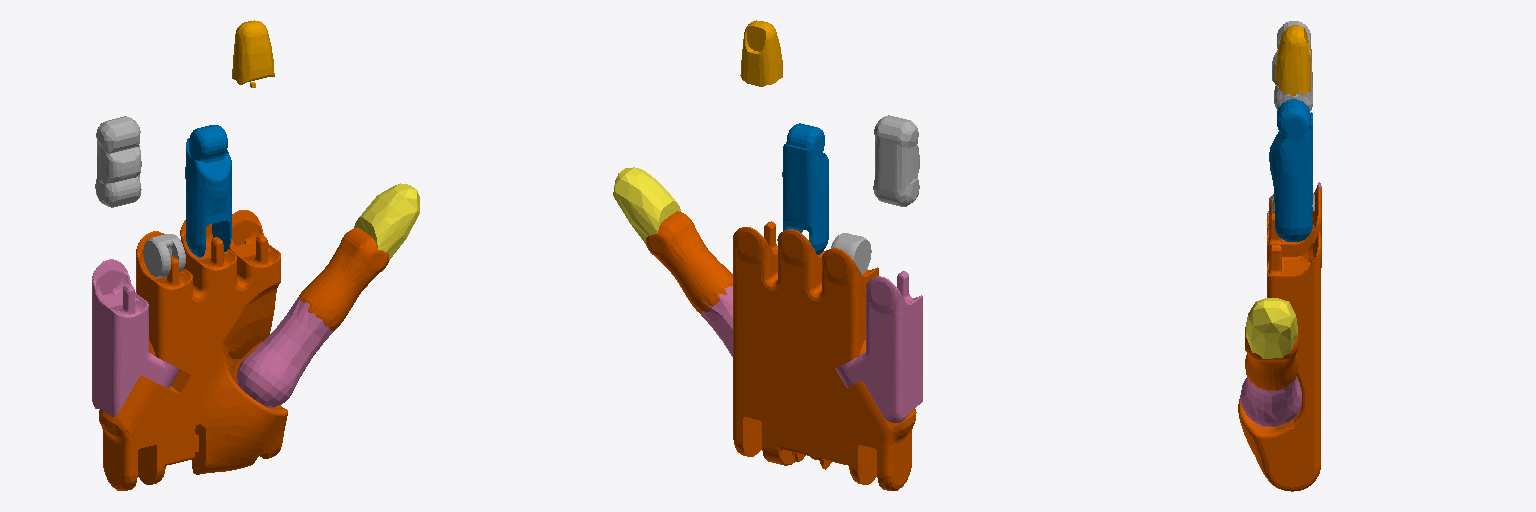
The robot description file, URDF, robot "shadowhand":
<robot name="shadowhand">
  <joint name="FFJ1" type="revolute">
    <origin xyz="0. -0. 0.025" rpy="0. 0. 0." />
    <parent link="ffmiddle" />
    <child link="ffdistal" />
    <axis xyz="1. 0. 0." />
    <limit lower="0." upper="1.5709999" effort="100" velocity="1.0" />
  </joint>
  <joint name="FFJ2" type="revolute">
    <origin xyz="0. -0. 0.045" rpy="0. 0. 0." />
    <parent link="ffproximal" />
    <child link="ffmiddle" />
    <axis xyz="1. 0. 0." />
    <limit lower="0." upper="1.5709999" effort="100" velocity="1.0" />
  </joint>
  <joint name="FFJ3" type="revolute">
    <origin xyz="0. -0. 0." rpy="0. 0. -1.5707961" />
    <parent link="ffknuckle" />
    <child link="ffproximal" />
    <axis xyz="1. 0. 0." />
    <limit lower="0." upper="1.5709999" effort="100" velocity="1.0" />
  </joint>
  <joint name="FFJ4" type="revolute">
    <origin xyz="0.033 -0. 0.095" rpy="-0. 0. 1.5707961" />
    <parent link="palm" />
    <child link="ffknuckle" />
    <axis xyz="1. 0. 0." />
    <limit lower="-0.349" upper="0.349" effort="100" velocity="1.0" />
  </joint>
  <joint name="LFJ1" type="revolute">
    <origin xyz="0. -0. 0.025" rpy="0. 0. 0." />
    <parent link="lfmiddle" />
    <child link="lfdistal" />
    <axis xyz="1. 0. 0." />
    <limit lower="0." upper="1.5709999" effort="100" velocity="1.0" />
  </joint>
  <joint name="LFJ2" type="revolute">
    <origin xyz="0. -0. 0.045" rpy="0. 0. 0." />
    <parent link="lfproximal" />
    <child link="lfmiddle" />
    <axis xyz="1. 0. 0." />
    <limit lower="0." upper="1.5709999" effort="100" velocity="1.0" />
  </joint>
  <joint name="LFJ3" type="revolute">
    <origin xyz="0. 0. 0." rpy="0. 0. -1.5707961" />
    <parent link="lfknuckle" />
    <child link="lfproximal" />
    <axis xyz="1. 0. 0." />
    <limit lower="0." upper="1.5709999" effort="100" velocity="1.0" />
  </joint>
  <joint name="LFJ4" type="revolute">
    <origin xyz="0.0264159 -0. 0.0390794" rpy="0.9631015 0.0000001 1.5707963" />
    <parent link="lfmetacarpal" />
    <child link="lfknuckle" />
    <axis xyz="1. 0. 0." />
    <limit lower="-0.349" upper="0.349" effort="100" velocity="1.0" />
  </joint>
  <joint name="LFJ5" type="revolute">
    <origin xyz="-0.017 -0. 0.044" rpy="0. -0.9631015 -0.0000001" />
    <parent link="palm" />
    <child link="lfmetacarpal" />
    <axis xyz="1. 0. 0." />
    <limit lower="0." upper="0.785" effort="100" velocity="1.0" />
  </joint>
  <joint name="MFJ1" type="revolute">
    <origin xyz="0. -0. 0.025" rpy="0. 0. 0." />
    <parent link="mfmiddle" />
    <child link="mfdistal" />
    <axis xyz="1. 0. 0." />
    <limit lower="0." upper="1.5709999" effort="100" velocity="1.0" />
  </joint>
  <joint name="MFJ2" type="revolute">
    <origin xyz="0. -0. 0.045" rpy="0. 0. 0." />
    <parent link="mfproximal" />
    <child link="mfmiddle" />
    <axis xyz="1. 0. 0." />
    <limit lower="0." upper="1.5709999" effort="100" velocity="1.0" />
  </joint>
  <joint name="MFJ3" type="revolute">
    <origin xyz="0. 0. 0." rpy="0. 0. -1.5707961" />
    <parent link="mfknuckle" />
    <child link="mfproximal" />
    <axis xyz="1. 0. 0." />
    <limit lower="0." upper="1.5709999" effort="100" velocity="1.0" />
  </joint>
  <joint name="MFJ4" type="revolute">
    <origin xyz="0.011 0. 0.099" rpy="-0. 0. 1.5707961" />
    <parent link="palm" />
    <child link="mfknuckle" />
    <axis xyz="1. 0. 0." />
    <limit lower="-0.349" upper="0.349" effort="100" velocity="1.0" />
  </joint>
  <joint name="RFJ1" type="revolute">
    <origin xyz="0. -0. 0.025" rpy="0. 0. 0." />
    <parent link="rfmiddle" />
    <child link="rfdistal" />
    <axis xyz="1. 0. 0." />
    <limit lower="0." upper="1.5709999" effort="100" velocity="1.0" />
  </joint>
  <joint name="RFJ2" type="revolute">
    <origin xyz="0. -0. 0.045" rpy="0. 0. 0." />
    <parent link="rfproximal" />
    <child link="rfmiddle" />
    <axis xyz="1. 0. 0." />
    <limit lower="0." upper="1.5709999" effort="100" velocity="1.0" />
  </joint>
  <joint name="RFJ3" type="revolute">
    <origin xyz="0. 0. 0." rpy="0. 0. -1.5707961" />
    <parent link="rfknuckle" />
    <child link="rfproximal" />
    <axis xyz="1. 0. 0." />
    <limit lower="0." upper="1.5709999" effort="100" velocity="1.0" />
  </joint>
  <joint name="RFJ4" type="revolute">
    <origin xyz="-0.011 -0. 0.095" rpy="-0. 0. 1.5707961" />
    <parent link="palm" />
    <child link="rfknuckle" />
    <axis xyz="1. 0. 0." />
    <limit lower="-0.349" upper="0.349" effort="100" velocity="1.0" />
  </joint>
  <joint name="THJ1" type="revolute">
    <origin xyz="-0. -0. 0.032" rpy="0. 0. 0." />
    <parent link="thmiddle" />
    <child link="thdistal" />
    <axis xyz="1. 0. 0." />
    <limit lower="-1.5709999" upper="0." effort="100" velocity="1.0" />
  </joint>
  <joint name="THJ2" type="revolute">
    <origin xyz="0. 0. 0." rpy="-0. 0. 1.5707961" />
    <parent link="thhub" />
    <child link="thmiddle" />
    <axis xyz="1. 0. 0." />
    <limit lower="-0.524" upper="0.524" effort="100" velocity="1.0" />
  </joint>
  <joint name="THJ3" type="revolute">
    <origin xyz="0. -0. 0.038" rpy="0. 0. 0." />
    <parent link="thproximal" />
    <child link="thhub" />
    <axis xyz="1. 0. 0." />
    <limit lower="-0.209" upper="0.209" effort="100" velocity="1.0" />
  </joint>
  <joint name="THJ4" type="revolute">
    <origin xyz="-0. -0. 0." rpy="-0. -1.5707963 0. " />
    <parent link="thbase" />
    <child link="thproximal" />
    <axis xyz="1. 0. 0." />
    <limit lower="0." upper="1.222" effort="100" velocity="1.0" />
  </joint>
  <joint name="THJ5" type="revolute">
    <origin xyz="0.034 -0.009 0.029" rpy="3.1415925 0.7857963 3.1415925" />
    <parent link="palm" />
    <child link="thbase" />
    <axis xyz="1. 0. 0." />
    <limit lower="-1.047" upper="1.047" effort="100" velocity="1.0" />
  </joint>
  <link name="ffdistal">
    <inertial>
      <origin xyz="0. 0. 0.015" rpy="0. 0. 0." />
      <mass value="0.01" />
      <inertia ixx="0.00001" ixy="0." ixz="0." iyy="0.00001" iyz="0." izz="0.00001" />
    </inertial>
    <collision>
      <origin xyz="0. 0. 0.001" rpy="0. 0. 0." />
      <geometry>
        <mesh filename="meshes/V_ffdistal.obj" scale="1. 1. 1." />
      </geometry>
    </collision>
    <visual>
      <origin xyz="0. 0. 0.001" rpy="0. 0. 0." />
      <geometry>
        <mesh filename="meshes/V_ffdistal.obj" scale="1. 1. 1." />
      </geometry>
    </visual>
  </link>
  <link name="ffknuckle">
    <inertial>
      <origin xyz="0. 0. 0." rpy="0. 0. 0." />
      <mass value="0.008" />
      <inertia ixx="0.00001" ixy="0." ixz="0." iyy="0.00001" iyz="0." izz="0.00001" />
    </inertial>
    <visual>
      <origin xyz="0. 0. 0." rpy="0. 0. 0." />
      <geometry>
        <mesh filename="meshes/V_ffknuckle.obj" scale="1. 1. 1." />
      </geometry>
    </visual>
    <collision>
      <origin xyz="0. 0. 0." rpy="0. 0. 0." />
      <geometry>
        <mesh filename="meshes/V_ffknuckle.obj" scale="1. 1. 1." />
      </geometry>
    </collision>
  </link>
  <link name="ffmiddle">
    <inertial>
      <origin xyz="0. 0. 0.011" rpy="0. 0. 0." />
      <mass value="0.012" />
      <inertia ixx="0.00001" ixy="0." ixz="0." iyy="0.00001" iyz="0." izz="0.00001" />
    </inertial>
    <visual>
      <origin xyz="0. 0. 0." rpy="0. 0. 0." />
      <geometry>
        <mesh filename="meshes/V_ffmiddle.obj" scale="1. 1. 1." />
      </geometry>
    </visual>
    <collision>
      <origin xyz="0. 0. 0." rpy="0. 0. 0." />
      <geometry>
        <mesh filename="meshes/V_ffmiddle.obj" scale="1. 1. 1." />
      </geometry>
    </collision>
  </link>
  <link name="ffproximal">
    <inertial>
      <origin xyz="0. 0. 0.023" rpy="0. 0. 0." />
      <mass value="0.014" />
      <inertia ixx="0.00001" ixy="0." ixz="0." iyy="0.00001" iyz="0." izz="0.00001" />
    </inertial>
    <visual>
      <origin xyz="0. 0. 0." rpy="0. 0. 0." />
      <geometry>
        <mesh filename="meshes/V_ffproximal.obj" scale="1. 1. 1." />
      </geometry>
    </visual>
    <collision>
      <origin xyz="0. 0. 0." rpy="0. 0. 0." />
      <geometry>
        <mesh filename="meshes/V_ffproximal.obj" scale="1. 1. 1." />
      </geometry>
    </collision>
  </link>
  <link name="lfdistal">
    <inertial>
      <origin xyz="0. 0. 0.015" rpy="0. 0. 0." />
      <mass value="0.01" />
      <inertia ixx="0.00001" ixy="0." ixz="0." iyy="0.00001" iyz="0." izz="0.00001" />
    </inertial>
    <visual>
      <origin xyz="0. 0. 0.001" rpy="0. 0. 0." />
      <geometry>
        <mesh filename="meshes/V_lfdistal.obj" scale="1. 1. 1." />
      </geometry>
    </visual>
    <collision>
      <origin xyz="0. 0. 0.001" rpy="0. 0. 0." />
      <geometry>
        <mesh filename="meshes/V_lfdistal.obj" scale="1. 1. 1." />
      </geometry>
    </collision>
  </link>
  <link name="lfknuckle">
    <inertial>
      <origin xyz="0. 0. 0." rpy="0. 0. 0." />
      <mass value="0.008" />
      <inertia ixx="0.00001" ixy="0." ixz="0." iyy="0.00001" iyz="0." izz="0.00001" />
    </inertial>
    <visual>
      <origin xyz="0. 0. 0." rpy="0. 0. -1.5707961" />
      <geometry>
        <mesh filename="meshes/V_lfknuckle.obj" scale="1. 1. 1." />
      </geometry>
    </visual>
    <collision>
      <origin xyz="0. 0. 0." rpy="0. 0. -1.5707961" />
      <geometry>
        <mesh filename="meshes/V_lfknuckle.obj" scale="1. 1. 1." />
      </geometry>
    </collision>
  </link>
  <link name="lfmetacarpal">
    <inertial>
      <origin xyz="-0.014 0.001 0.014" rpy="0. 0. 0." />
      <mass value="0.075" />
      <inertia ixx="0.00001" ixy="0." ixz="0." iyy="0.00001" iyz="0." izz="0.00001" />
    </inertial>
    <visual>
      <origin xyz="-0.0280179 -0. 0.000003 " rpy="0.0000001 0.9631015 0.0000001" />
      <geometry>
        <mesh filename="meshes/V_lfmetacarpal.obj" scale="1. 1. 1." />
      </geometry>
    </visual>
    <collision>
      <origin xyz="-0.0012114 -0. 0.0192557" rpy="0.0000001 0.9631015 0.0000001" />
      <geometry>
        <box size="0.019 0.0222 0.05 " />
      </geometry>
    </collision>
  </link>
  <link name="lfmiddle">
    <inertial>
      <origin xyz="0. 0. 0.012" rpy="0. 0. 0." />
      <mass value="0.012" />
      <inertia ixx="0.00001" ixy="0." ixz="0." iyy="0.00001" iyz="0." izz="0.00001" />
    </inertial>
    <visual>
      <origin xyz="0. 0. 0." rpy="0. 0. 0." />
      <geometry>
        <mesh filename="meshes/V_lfmiddle.obj" scale="1. 1. 1." />
      </geometry>
    </visual>
    <collision>
      <origin xyz="0. 0. 0." rpy="0. 0. 0." />
      <geometry>
        <mesh filename="meshes/V_lfmiddle.obj" scale="1. 1. 1." />
      </geometry>
    </collision>
  </link>
  <link name="lfproximal">
    <inertial>
      <origin xyz="0. 0. 0.023" rpy="0. 0. 0." />
      <mass value="0.014" />
      <inertia ixx="0.00001" ixy="0." ixz="0." iyy="0.00001" iyz="0." izz="0.00001" />
    </inertial>
    <visual>
      <origin xyz="0. 0. 0." rpy="0. 0. 0." />
      <geometry>
        <mesh filename="meshes/V_lfproximal.obj" scale="1. 1. 1." />
      </geometry>
    </visual>
    <collision>
      <origin xyz="0. 0. 0." rpy="0. 0. 0." />
      <geometry>
        <mesh filename="meshes/V_lfproximal.obj" scale="1. 1. 1." />
      </geometry>
    </collision>
  </link>
  <link name="mfdistal">
    <inertial>
      <origin xyz="0. 0. 0.015" rpy="0. 0. 0." />
      <mass value="0.01" />
      <inertia ixx="0.00001" ixy="0." ixz="0." iyy="0.00001" iyz="0." izz="0.00001" />
    </inertial>
    <visual>
      <origin xyz="0. 0. 0." rpy="0. 0. 0." />
      <geometry>
        <mesh filename="meshes/V_mfdistal.obj" scale="1. 1. 1." />
      </geometry>
    </visual>
    <collision>
      <origin xyz="0. 0. 0." rpy="0. 0. 0." />
      <geometry>
        <mesh filename="meshes/V_mfdistal.obj" scale="1. 1. 1." />
      </geometry>
    </collision>
  </link>
  <link name="mfknuckle">
    <inertial>
      <origin xyz="0. 0. 0." rpy="0. 0. 0." />
      <mass value="0.008" />
      <inertia ixx="0.00001" ixy="0." ixz="0." iyy="0.00001" iyz="0." izz="0.00001" />
    </inertial>
    <visual>
      <origin xyz="0. 0. 0." rpy="0. 0. -1.5707961" />
      <geometry>
        <mesh filename="meshes/V_mfknuckle.obj" scale="1. 1. 1." />
      </geometry>
    </visual>
    <collision>
      <origin xyz="0. 0. 0." rpy="0. 0. -1.5707961" />
      <geometry>
        <mesh filename="meshes/V_mfknuckle.obj" scale="1. 1. 1." />
      </geometry>
    </collision>
  </link>
  <link name="mfmiddle">
    <inertial>
      <origin xyz="0. 0. 0.012" rpy="0. 0. 0." />
      <mass value="0.012" />
      <inertia ixx="0.00001" ixy="0." ixz="0." iyy="0.00001" iyz="0." izz="0.00001" />
    </inertial>
    <visual>
      <origin xyz="0. 0. 0." rpy="0. 0. 0." />
      <geometry>
        <mesh filename="meshes/V_mfmiddle.obj" scale="1. 1. 1." />
      </geometry>
    </visual>
    <collision>
      <origin xyz="0. 0. 0." rpy="0. 0. 0." />
      <geometry>
        <mesh filename="meshes/V_mfmiddle.obj" scale="1. 1. 1." />
      </geometry>
    </collision>
  </link>
  <link name="mfproximal">
    <inertial>
      <origin xyz="0. 0. 0.023" rpy="0. 0. 0." />
      <mass value="0.014" />
      <inertia ixx="0.00001" ixy="0." ixz="0." iyy="0.00001" iyz="0." izz="0.00001" />
    </inertial>
    <visual>
      <origin xyz="0. 0. 0." rpy="0. 0. 0." />
      <geometry>
        <mesh filename="meshes/V_mfproximal.obj" scale="1. 1. 1." />
      </geometry>
    </visual>
    <collision>
      <origin xyz="0. 0. 0." rpy="0. 0. 0." />
      <geometry>
        <mesh filename="meshes/V_mfproximal.obj" scale="1. 1. 1." />
      </geometry>
    </collision>
  </link>
  <link name="palm">
    <inertial>
      <origin xyz="0.006 0. 0.036" rpy="0. 0. 0." />
      <mass value="0.3" />
      <inertia ixx="0.001" ixy="0." ixz="0." iyy="0.001" iyz="0." izz="0.001" />
    </inertial>
    <visual>
      <origin xyz="0. 0. 0." rpy="0. 0. 0." />
      <geometry>
        <mesh filename="meshes/V_palm.obj" scale="1. 1. 1." />
      </geometry>
    </visual>
    <collision>
      <origin xyz="0.011 0. 0.038" rpy="0. 0. 0." />
      <geometry>
        <box size="0.064 0.0222 0.098 " />
      </geometry>
    </collision>
    <collision>
      <origin xyz="-0.032 0. 0.014" rpy="0. 0. 0." />
      <geometry>
        <box size="0.022 0.0222 0.05 " />
      </geometry>
    </collision>
  </link>
  <link name="rfdistal">
    <inertial>
      <origin xyz="0. 0. 0.015" rpy="0. 0. 0." />
      <mass value="0.01" />
      <inertia ixx="0.00001" ixy="0." ixz="0." iyy="0.00001" iyz="0." izz="0.00001" />
    </inertial>
    <visual>
      <origin xyz="0. 0. 0.001" rpy="0. 0. 0." />
      <geometry>
        <mesh filename="meshes/V_rfdistal.obj" scale="1. 1. 1." />
      </geometry>
    </visual>
    <collision>
      <origin xyz="0. 0. 0.001" rpy="0. 0. 0." />
      <geometry>
        <mesh filename="meshes/V_rfdistal.obj" scale="1. 1. 1." />
      </geometry>
    </collision>
  </link>
  <link name="rfknuckle">
    <inertial>
      <origin xyz="0. 0. 0." rpy="0. 0. 0." />
      <mass value="0.008" />
      <inertia ixx="0.00001" ixy="0." ixz="0." iyy="0.00001" iyz="0." izz="0.00001" />
    </inertial>
    <visual>
      <origin xyz="0. 0. 0." rpy="0. 0. -1.5707961" />
      <geometry>
        <mesh filename="meshes/V_rfknuckle.obj" scale="1. 1. 1." />
      </geometry>
    </visual>
    <collision>
      <origin xyz="0. 0. 0." rpy="0. 0. -1.5707961" />
      <geometry>
        <mesh filename="meshes/V_rfknuckle.obj" scale="1. 1. 1." />
      </geometry>
    </collision>
  </link>
  <link name="rfmiddle">
    <inertial>
      <origin xyz="0. 0. 0.012" rpy="0. 0. 0." />
      <mass value="0.012" />
      <inertia ixx="0.00001" ixy="0." ixz="0." iyy="0.00001" iyz="0." izz="0.00001" />
    </inertial>
    <visual>
      <origin xyz="0. 0. 0." rpy="0. 0. 0." />
      <geometry>
        <mesh filename="meshes/V_rfmiddle.obj" scale="1. 1. 1." />
      </geometry>
    </visual>
    <collision>
      <origin xyz="0. 0. 0." rpy="0. 0. 0." />
      <geometry>
        <mesh filename="meshes/V_rfmiddle.obj" scale="1. 1. 1." />
      </geometry>
    </collision>
  </link>
  <link name="rfproximal">
    <inertial>
      <origin xyz="0. 0. 0.023" rpy="0. 0. 0." />
      <mass value="0.014" />
      <inertia ixx="0.00001" ixy="0." ixz="0." iyy="0.00001" iyz="0." izz="0.00001" />
    </inertial>
    <visual>
      <origin xyz="0. 0. 0." rpy="0. 0. 0." />
      <geometry>
        <mesh filename="meshes/V_rfproximal.obj" scale="1. 1. 1." />
      </geometry>
    </visual>
    <collision>
      <origin xyz="0. 0. 0." rpy="0. 0. 0." />
      <geometry>
        <mesh filename="meshes/V_rfproximal.obj" scale="1. 1. 1." />
      </geometry>
    </collision>
  </link>
  <link name="thbase">
    <inertial>
      <origin xyz="0. 0. 0." rpy="0. 0. 0." />
      <mass value="0.01" />
      <inertia ixx="0.00001" ixy="0." ixz="0." iyy="0.00001" iyz="0." izz="0.00001" />
    </inertial>
    <visual>
      <origin xyz="-0. -0. 0." rpy="-0. -1.5707963 0. " />
      <geometry>
        <box size="0.002 0.002 0.002" />
      </geometry>
    </visual>
    <collision>
      <origin xyz="-0. -0. 0." rpy="-0. -1.5707963 0. " />
      <geometry>
        <box size="0.002 0.002 0.002" />
      </geometry>
    </collision>
  </link>
  <link name="thdistal">
    <inertial>
      <origin xyz="0. 0. 0.016" rpy="0. 0. 0." />
      <mass value="0.016" />
      <inertia ixx="0.00001" ixy="0." ixz="0." iyy="0.00001" iyz="0." izz="0.00001" />
    </inertial>
    <visual>
      <origin xyz="0. 0. 0." rpy="0. 0. -1.5707961" />
      <geometry>
        <mesh filename="meshes/V_thdistal.obj" scale="1. 1. 1." />
      </geometry>
    </visual>
    <collision>
      <origin xyz="0. 0. 0." rpy="0. 0. -1.5707961" />
      <geometry>
        <mesh filename="meshes/V_thdistal.obj" scale="1. 1. 1." />
      </geometry>
    </collision>
  </link>
  <link name="thhub">
    <inertial>
      <origin xyz="0. 0. 0." rpy="0. 0. 0." />
      <mass value="0.002" />
      <inertia ixx="0.00001" ixy="0." ixz="0." iyy="0.00001" iyz="0." izz="0.00001" />
    </inertial>
    <visual>
      <origin xyz="0. 0. 0." rpy="0. 0. 0." />
      <geometry>
        <box size="0.002 0.002 0.002" />
      </geometry>
    </visual>
    <collision>
      <origin xyz="0. 0. 0." rpy="0. 0. 0." />
      <geometry>
        <box size="0.002 0.002 0.002" />
      </geometry>
    </collision>
  </link>
  <link name="thmiddle">
    <inertial>
      <origin xyz="0. 0. 0.016" rpy="0. 0. 0." />
      <mass value="0.016" />
      <inertia ixx="0.00001" ixy="0." ixz="0." iyy="0.00001" iyz="0." izz="0.00001" />
    </inertial>
    <visual>
      <origin xyz="0. 0. 0." rpy="0. 0. -1.5707961" />
      <geometry>
        <mesh filename="meshes/V_thmiddle.obj" scale="1. 1. 1." />
      </geometry>
    </visual>
    <collision>
      <origin xyz="0. 0. 0." rpy="0. 0. -1.5707961" />
      <geometry>
        <mesh filename="meshes/V_thmiddle.obj" scale="1. 1. 1." />
      </geometry>
    </collision>
  </link>
  <link name="thproximal">
    <inertial>
      <origin xyz="0. 0. 0.017" rpy="0. 0. 0." />
      <mass value="0.016" />
      <inertia ixx="0.00001" ixy="0." ixz="0." iyy="0.00001" iyz="0." izz="0.00001" />
    </inertial>
    <visual>
      <origin xyz="0. 0. 0." rpy="0. 0. 0." />
      <geometry>
        <mesh filename="meshes/V_thproximal.obj" scale="1. 1. 1." />
      </geometry>
    </visual>
    <collision>
      <origin xyz="0. 0. 0." rpy="0. 0. 0." />
      <geometry>
        <mesh filename="meshes/V_thproximal.obj" scale="1. 1. 1." />
      </geometry>
    </collision>
  </link>
  <link name="shadow_root_link_0">
    <inertial>
      <origin xyz="0. 0. 0." rpy="0. 0. 0." />
      <mass value="0.0" />
      <inertia ixx="0.00" ixy="0.00" ixz="0.00" iyy="0.00" iyz="0.00" izz="0.00" />
    </inertial>
  </link>
  <link name="shadow_root_link_1">
    <inertial>
      <mass value="0.00" />
      <inertia ixx="0.00" ixy="0.00" ixz="0.00" iyy="0.00" iyz="0.00" izz="0.00" />
    </inertial>
  </link>
  <link name="shadow_root_link_2">
    <inertial>
      <mass value="0.00" />
      <inertia ixx="0.00" ixy="0.00" ixz="0.00" iyy="0.00" iyz="0.00" izz="0.00" />
    </inertial>
  </link>
  <link name="shadow_root_link_3">
    <inertial>
      <mass value="0.00" />
      <inertia ixx="0.00" ixy="0.00" ixz="0.00" iyy="0.00" iyz="0.00" izz="0.00" />
    </inertial>
  </link>
  <link name="shadow_root_link_4">
    <inertial>
      <mass value="0.00" />
      <inertia ixx="0.00" ixy="0.00" ixz="0.00" iyy="0.00" iyz="0.00" izz="0.00" />
    </inertial>
  </link>
  <link name="shadow_root_link_5">
    <inertial>
      <mass value="0.00" />
      <inertia ixx="0.00" ixy="0.00" ixz="0.00" iyy="0.00" iyz="0.00" izz="0.00" />
    </inertial>
  </link>
  <joint name="root_x_axis_joint" type="prismatic">
    <parent link="shadow_root_link_0" />
    <child link="shadow_root_link_1" />
    <axis xyz="1 0 0" />
    <limit effort="2.0" lower="-1.0" upper="1.0" velocity="2.0" />
  </joint>
  <joint name="root_y_axis_joint" type="prismatic">
    <parent link="shadow_root_link_1" />
    <child link="shadow_root_link_2" />
    <axis xyz="0 1 0" />
    <limit effort="2.0" lower="-1.0" upper="1.0" velocity="2.0" />
  </joint>
  <joint name="root_z_axis_joint" type="prismatic">
    <parent link="shadow_root_link_2" />
    <child link="shadow_root_link_3" />
    <axis xyz="0 0 1" />
    <limit effort="2.0" lower="-1.0" upper="1.0" velocity="2.0" />
  </joint>
  <joint name="root_x_rot_joint" type="revolute">
    <parent link="shadow_root_link_3" />
    <child link="shadow_root_link_4" />
    <axis xyz="1 0 0" />
    <limit effort="2.0" lower="-3.14" upper="3.14" velocity="2.0" />
  </joint>
  <joint name="root_y_rot_joint" type="revolute">
    <parent link="shadow_root_link_4" />
    <child link="shadow_root_link_5" />
    <axis xyz="0 1 0" />
    <limit effort="2.0" lower="-3.14" upper="3.14" velocity="2.0" />
  </joint>
  <joint name="root_z_rot_joint" type="revolute">
    <parent link="shadow_root_link_5" />
    <child link="palm" />
    <axis xyz="0 0 1" />
    <origin rpy="-0.00000 -0.00000 0" xyz="0 0 0" />
    <limit effort="2.0" lower="-3.14" upper="3.14" velocity="2.0" />
  </joint>
</robot>

--- Facts derived from the render (not from the file) ---
The picture shows the robot from 3 angles, left to right: view 1: azimuth 30°, elevation 25°; view 2: azimuth 150°, elevation 25°; view 3: azimuth 270°, elevation 25°; orthographic projection.
Robot: shadowhand — 29 links, 28 joints (25 revolute, 3 prismatic); root link shadow_root_link_0; default pose: every joint at zero.
Links seen in each view (by area): view 1: palm, lfmetacarpal, thproximal, mfproximal, thmiddle, lfmiddle, thdistal, ffdistal, rfknuckle; view 2: palm, lfmetacarpal, mfproximal, thmiddle, lfmiddle, thdistal, ffdistal, thproximal, rfknuckle; view 3: palm, mfproximal, thdistal, thproximal, ffdistal, thmiddle, lfmiddle.
Link boxes in pixels (x1,y1,x2,y2): palm: [99, 210, 287, 490]; lfmetacarpal: [92, 259, 179, 416]; thproximal: [236, 296, 337, 407]; mfproximal: [185, 125, 231, 257]; thmiddle: [297, 227, 388, 330]; lfmiddle: [95, 116, 141, 207]; thdistal: [354, 183, 419, 260]; ffdistal: [232, 20, 274, 87]; rfknuckle: [143, 234, 185, 277]; palm: [733, 221, 916, 490]; lfmetacarpal: [835, 271, 922, 422]; mfproximal: [782, 123, 828, 254]; thmiddle: [646, 211, 732, 313]; lfmiddle: [873, 115, 919, 206]; thdistal: [613, 167, 680, 243]; ffdistal: [740, 20, 782, 86]; thproximal: [701, 279, 732, 356]; rfknuckle: [831, 233, 871, 274]; palm: [1238, 187, 1321, 491]; mfproximal: [1269, 99, 1312, 241]; thdistal: [1246, 298, 1297, 358]; thproximal: [1240, 376, 1301, 426]; ffdistal: [1275, 25, 1310, 95]; thmiddle: [1245, 327, 1298, 390]; lfmiddle: [1272, 21, 1312, 110].
Size in the robot's own frame: 0.1538 by 0.0343 by 0.2066 metres.
9 mesh visuals loaded from 21 distinct referenced files (9 OBJ); not drawn: 12 (reference not matched to a file when rendering).